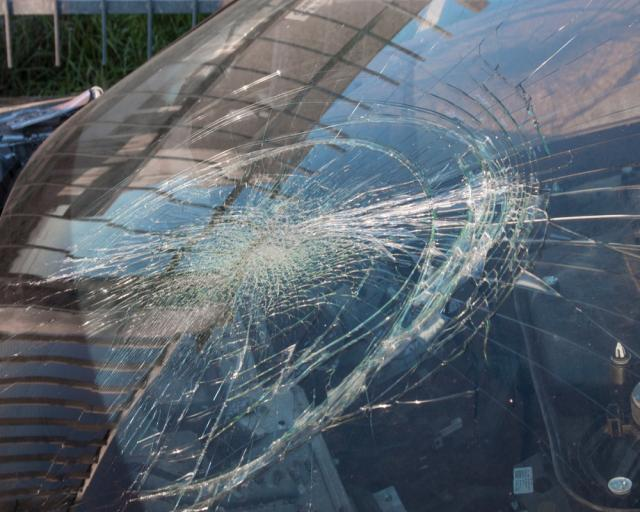glass shatter: (0, 0, 640, 512)
